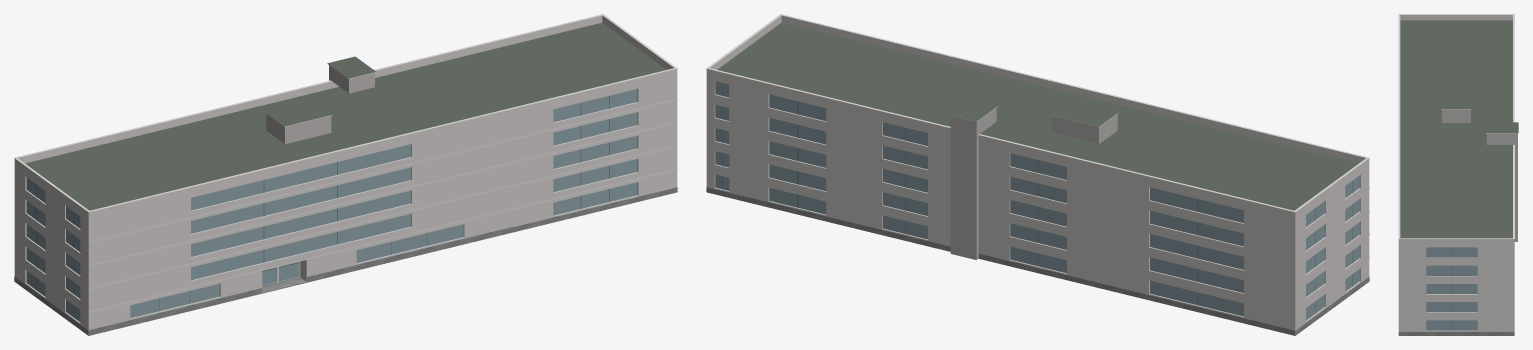
3 views of the same model, side by side, from view 1: azimuth 30°, elevation 25°; view 2: azimuth 150°, elevation 25°; view 3: azimuth 270°, elevation 25° (orthographic). The views are drawn at different scales.
Parts seen in each view (by area): view 1: b20__wall, b20__roof, b20__glass, b20__parapet, b20__trim, b20__base, b20__wall2, b20__frame; view 2: b20__wall, b20__roof, b20__glass, b20__parapet, b20__wall2, b20__base, b20__trim, b20__frame; view 3: b20__roof, b20__wall, b20__glass, b20__trim, b20__parapet, b20__wall2, b20__base.
Part boxes in pixels (<box>): b20__wall: <box>14,76,677,334</box>; b20__roof: <box>25,22,666,335</box>; b20__glass: <box>26,89,637,321</box>; b20__parapet: <box>14,15,677,218</box>; b20__trim: <box>14,14,677,312</box>; b20__base: <box>14,187,677,335</box>; b20__wall2: <box>266,65,374,143</box>; b20__frame: <box>36,95,609,317</box>; b20__wall: <box>706,76,1369,335</box>; b20__roof: <box>717,22,1358,210</box>; b20__glass: <box>715,81,1359,320</box>; b20__parapet: <box>706,15,1369,218</box>; b20__wall2: <box>950,108,1117,259</box>; b20__base: <box>706,187,1369,335</box>; b20__trim: <box>706,14,1369,257</box>; b20__frame: <box>722,83,1352,313</box>; b20__roof: <box>1400,20,1518,238</box>; b20__wall: <box>1398,244,1514,331</box>; b20__glass: <box>1426,247,1477,330</box>; b20__trim: <box>1398,14,1518,239</box>; b20__parapet: <box>1398,15,1514,244</box>; b20__wall2: <box>1442,109,1517,241</box>; b20__base: <box>1398,332,1514,335</box>.
Size of the model in its own units: 95.18 by 21.53 by 21.56.
9 materials, 1 textured.
